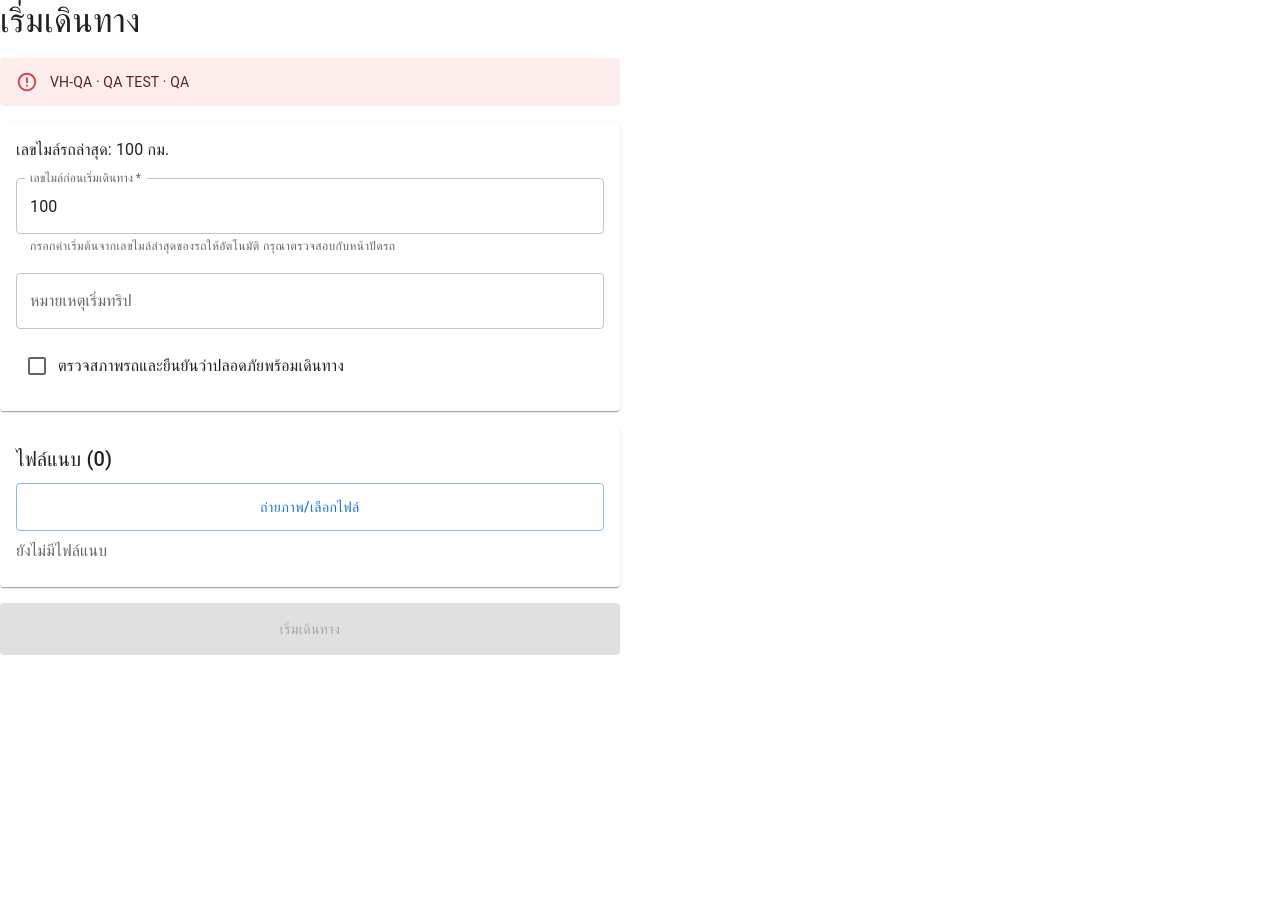
Test: Fleet M4.2 mobile driver UI › prevents double submit
Expected: the text "VH-QA · QA TEST · QA" is shown, x1=50 y1=74 x2=189 y2=90
Click the checkbox labelled "ตรวจสภาพรถและยืนยันว่าปลอดภัยพร้อมเดินทาง": (184, 366) x1=25 y1=354 x2=344 y2=378
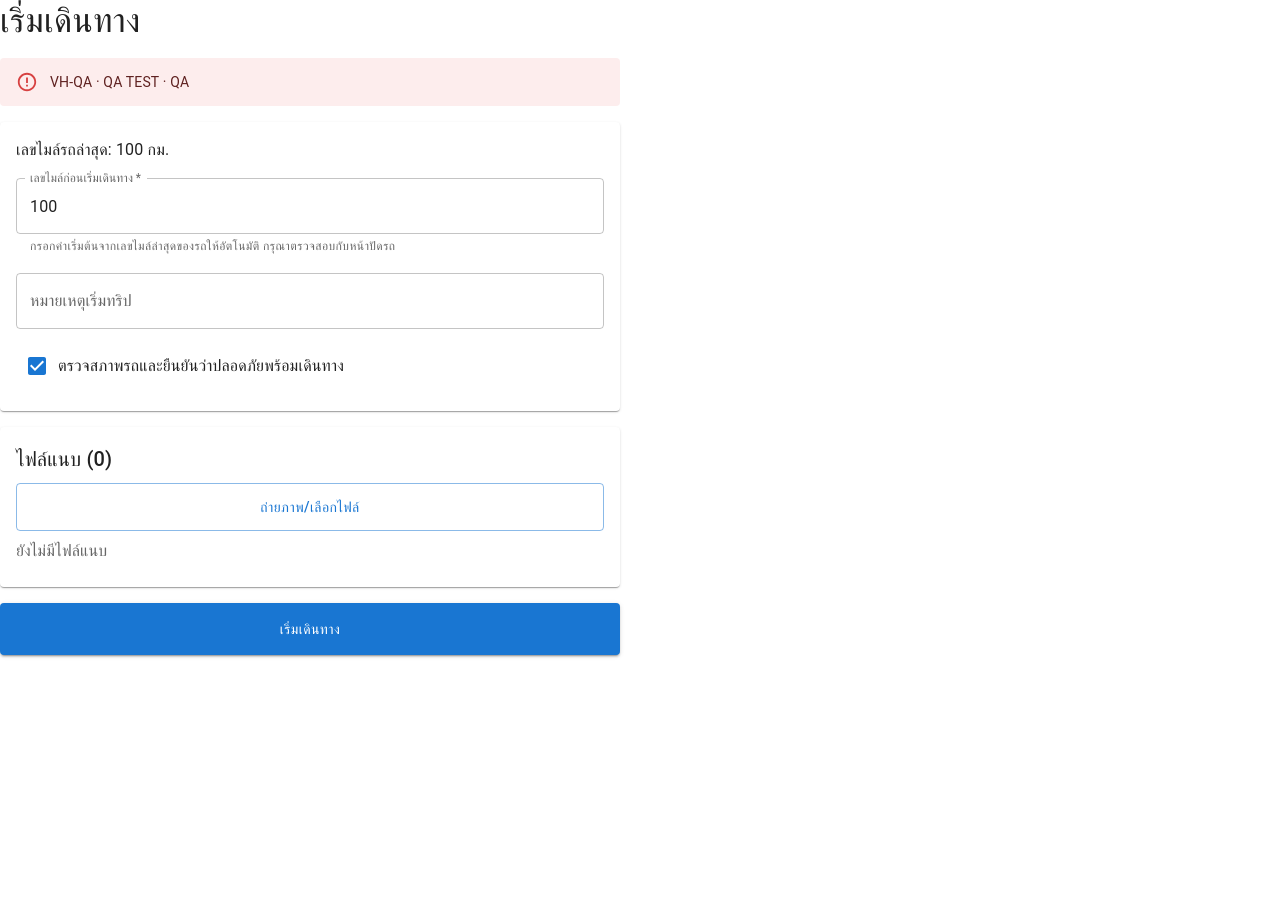
Click the button "เริ่มเดินทาง": (310, 629) x1=0 y1=603 x2=620 y2=655
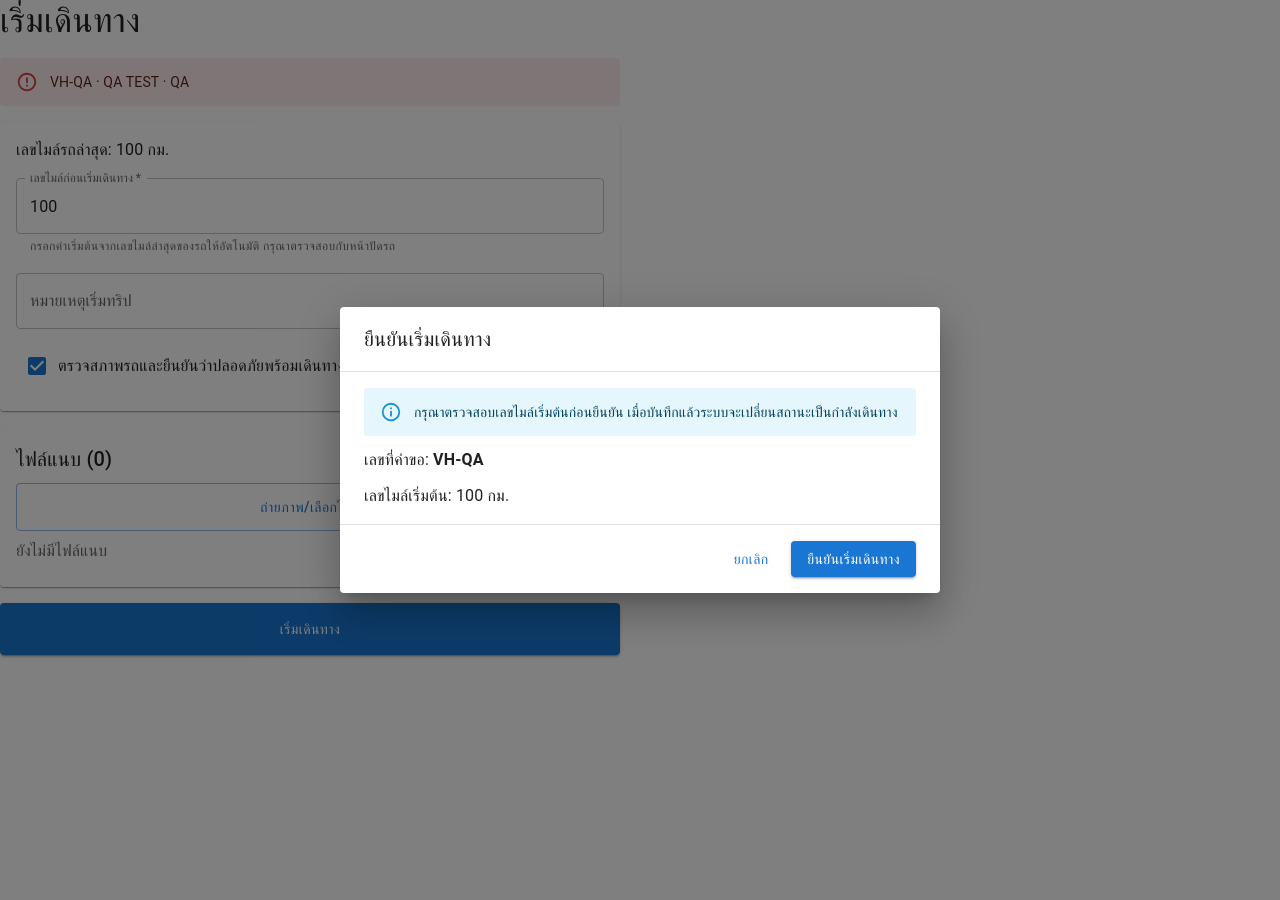
Click the button "ยืนยันเริ่มเดินทาง": (854, 559) x1=791 y1=541 x2=916 y2=577
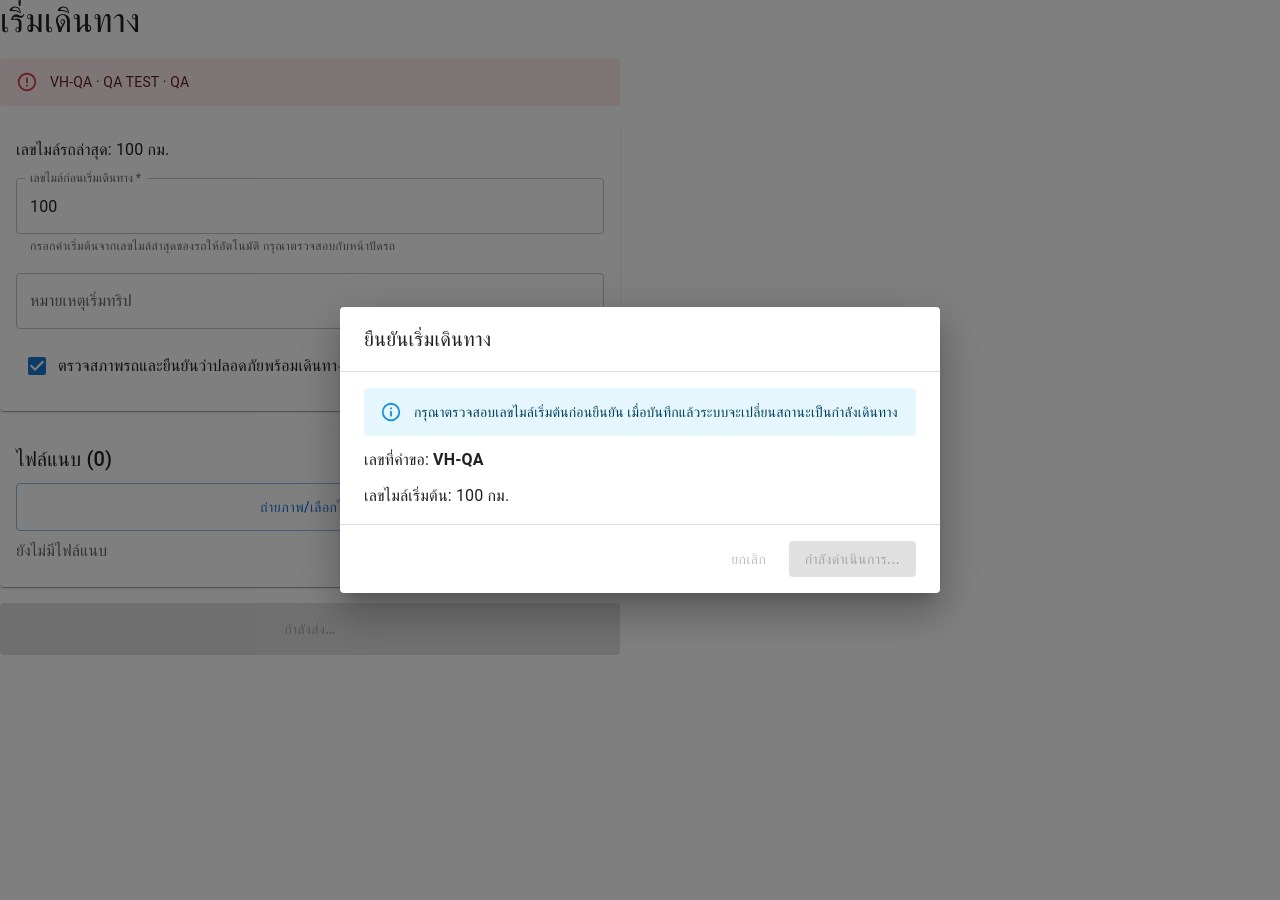
Now the button "กำลังดำเนินการ..." is disabled, box x1=789 y1=541 x2=916 y2=577
